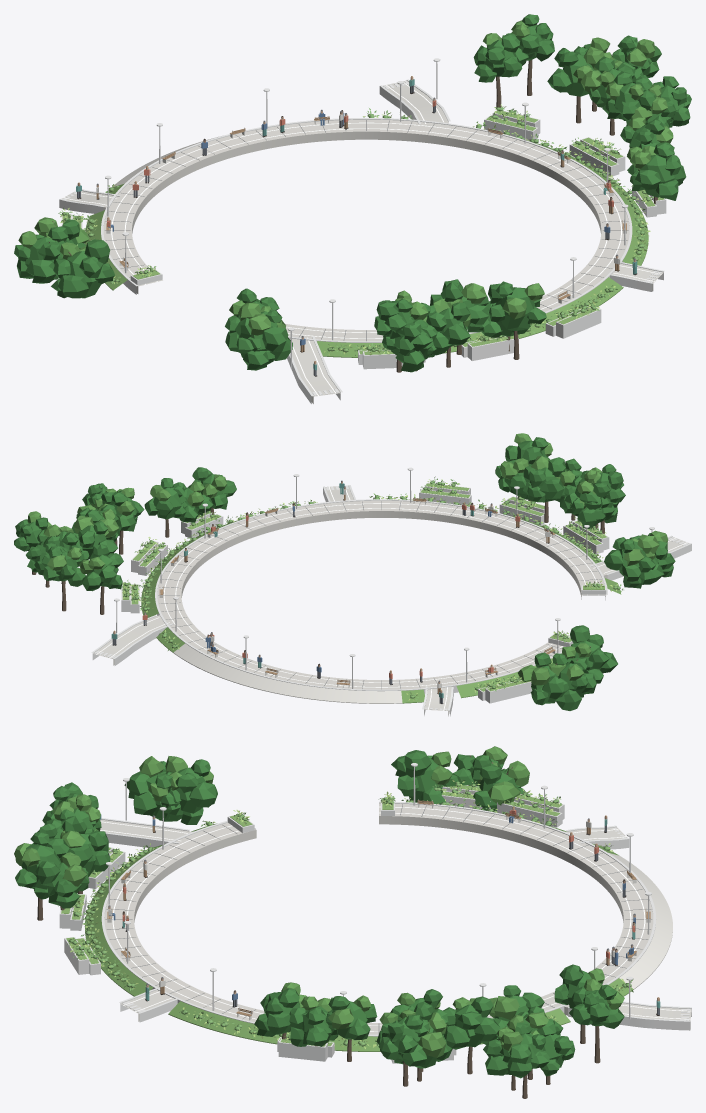
The model's file is q05-park-surround-2127.glb.
3 renders of one model, top to bottom at view 1: azimuth 30°, elevation 25°; view 2: azimuth 150°, elevation 25°; view 3: azimuth 270°, elevation 25°, orthographic. The views are drawn at different scales.
Parts seen in each view (by area): view 1: q05s_crown, q05s_walk, q05s_kerb, q05s_crown_l, q05s_bank, q05s_green, q05s_ice, q05s_lawn, q05s_leaf_l, q05s_bark, q05s_joint, q05s_wood; view 2: q05s_crown, q05s_walk, q05s_kerb, q05s_crown_l, q05s_green, q05s_ice, q05s_bank, q05s_lawn, q05s_leaf_l, q05s_joint, q05s_bark, q05s_wood; view 3: q05s_crown, q05s_walk, q05s_kerb, q05s_crown_l, q05s_bank, q05s_green, q05s_ice, q05s_lawn, q05s_leaf_l, q05s_bark, q05s_joint, q05s_wood.
Part boxes in pixels (x1,y1,x2,y2): q05s_crown: (14,14,691,372); q05s_walk: (62,80,663,403); q05s_kerb: (59,58,666,403); q05s_crown_l: (18,20,673,335); q05s_bank: (85,136,648,357); q05s_green: (58,105,653,355); q05s_ice: (63,82,661,395); q05s_lawn: (63,110,664,354); q05s_leaf_l: (60,104,652,355); q05s_bark: (49,60,657,372); q05s_joint: (105,120,628,341); q05s_wood: (78,76,626,362); q05s_crown: (14,437,675,710); q05s_walk: (93,485,689,716); q05s_kerb: (91,467,691,716); q05s_crown_l: (27,433,668,685); q05s_green: (122,476,623,700); q05s_ice: (96,486,687,710); q05s_bank: (141,515,621,703); q05s_lawn: (122,483,607,691); q05s_leaf_l: (122,479,617,700); q05s_joint: (158,501,604,689); q05s_bark: (32,496,604,667); q05s_wood: (113,495,555,693); q05s_crown: (15,750,624,1078); q05s_walk: (100,803,691,1034); q05s_kerb: (59,763,691,1063); q05s_crown_l: (14,746,624,1057); q05s_bank: (84,823,633,1051); q05s_green: (58,779,633,1046); q05s_ice: (100,806,691,1031); q05s_lawn: (61,785,562,1046); q05s_leaf_l: (68,780,631,1048); q05s_bark: (37,754,600,1098); q05s_joint: (105,804,651,1034); q05s_wood: (107,800,659,1016).
Size of the model in its own units: 78.64 by 10.9 by 67.31.
